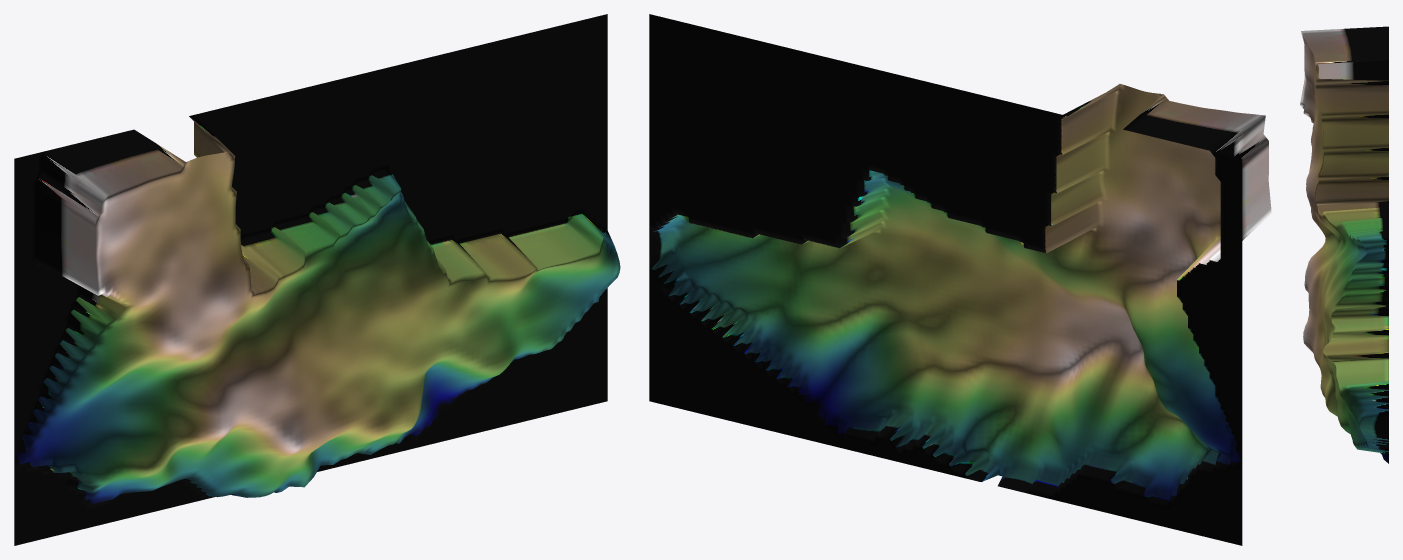
The model's file is tirumala_terrain.glb.
The picture shows the model from 3 angles, left to right: view 1: azimuth 30°, elevation 25°; view 2: azimuth 150°, elevation 25°; view 3: azimuth 270°, elevation 25°; orthographic projection. The views are drawn at different scales.
Parts seen in each view (by area): view 1: Tirumala_Terrain_Mesh; view 2: Tirumala_Terrain_Mesh; view 3: Tirumala_Terrain_Mesh.
Part boxes in pixels (x1,y1,x2,y2): Tirumala_Terrain_Mesh: (14, 14, 620, 545); Tirumala_Terrain_Mesh: (649, 14, 1271, 545); Tirumala_Terrain_Mesh: (1300, 26, 1388, 463).
Bounding box in the file's own units: 8720 × 5440 × 1438.
1 material, 1 textured.
